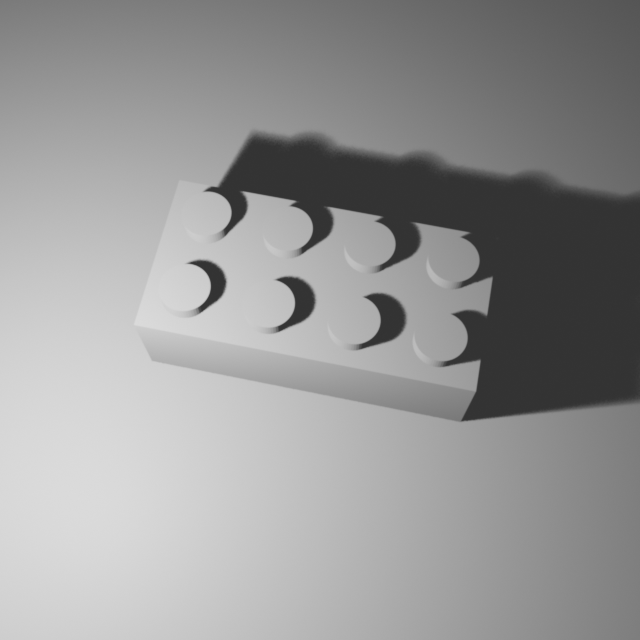lego_2x4: (131, 171, 501, 422)
